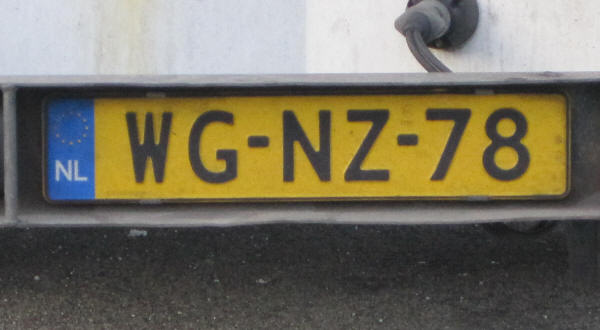license_plate: (42, 90, 572, 199)
